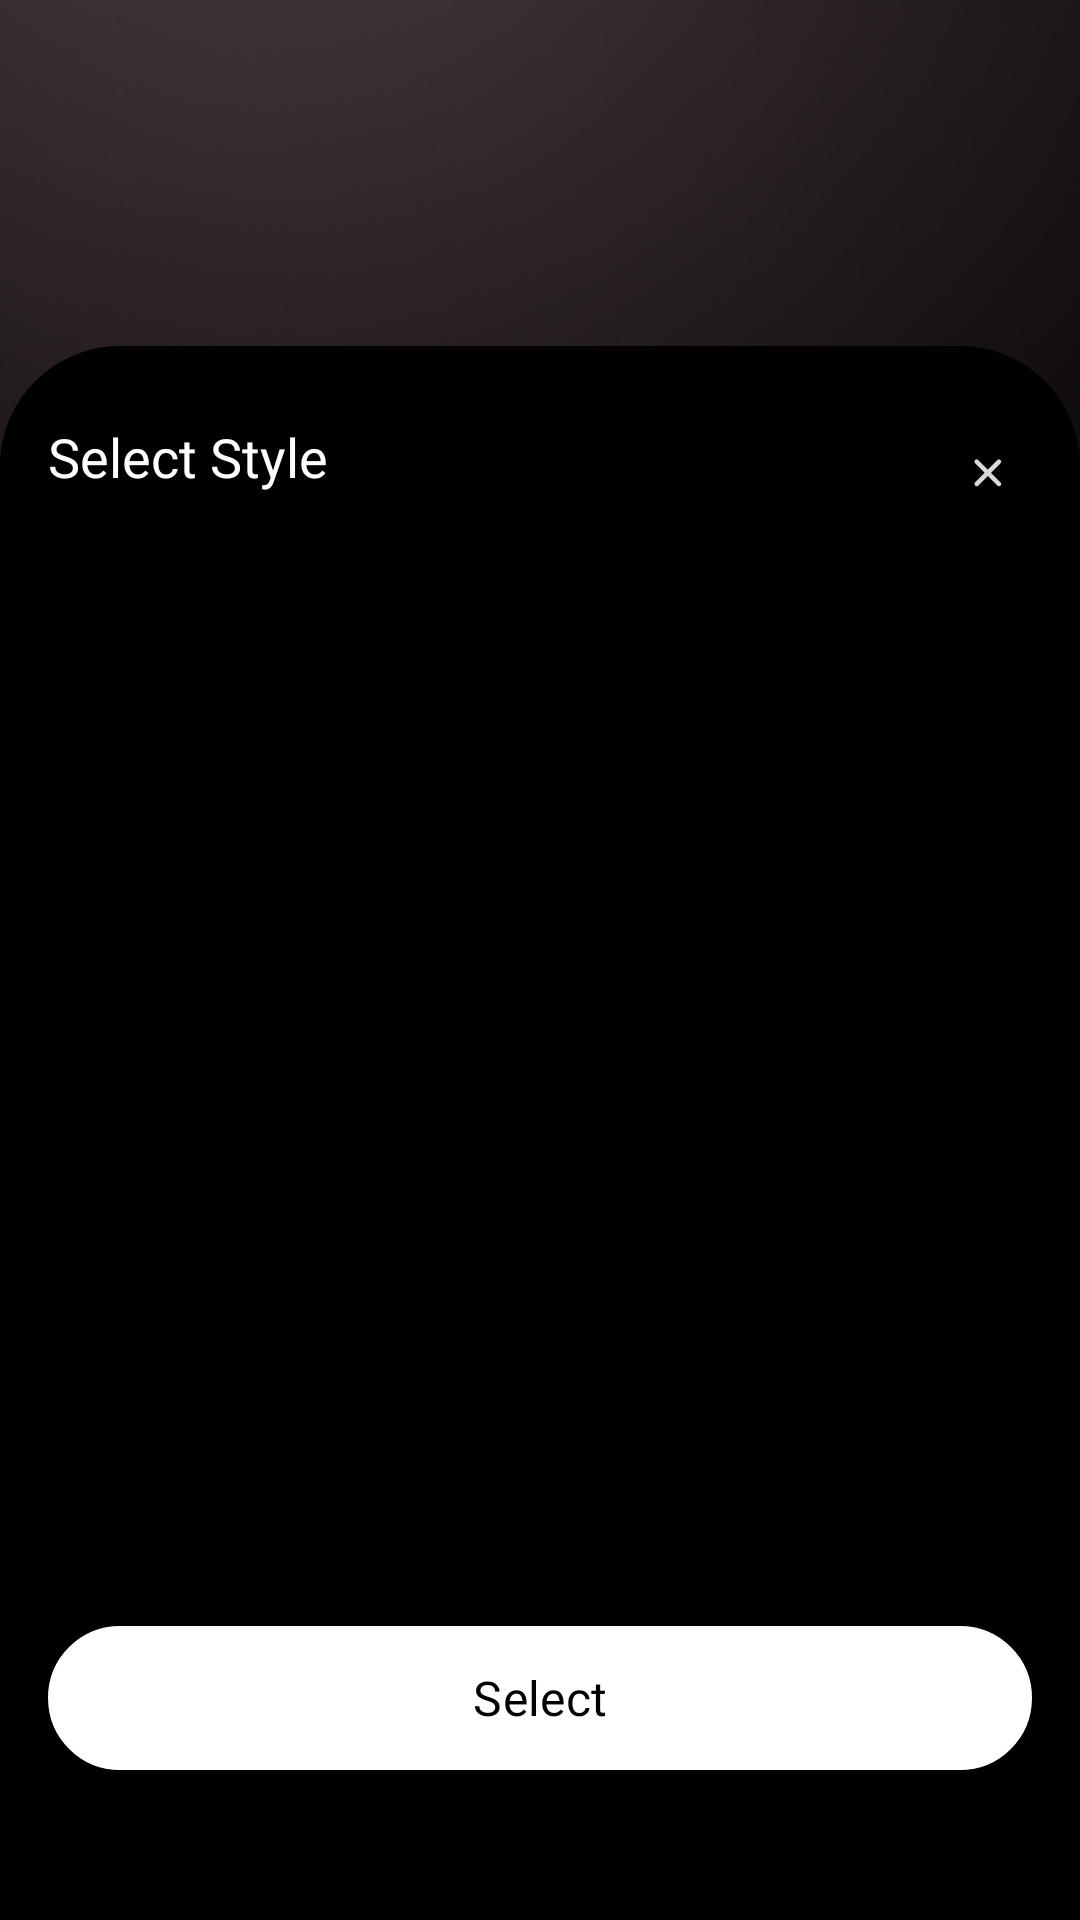

Point at icon controls on the screen. Image size 1080 × 1920, points as (x=x, y=y).
exit: (x=988, y=473)
